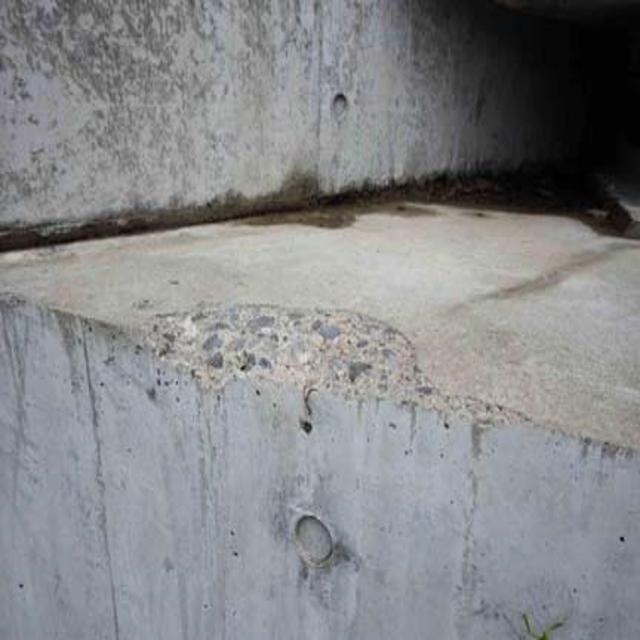leakage: (14, 150, 632, 253)
